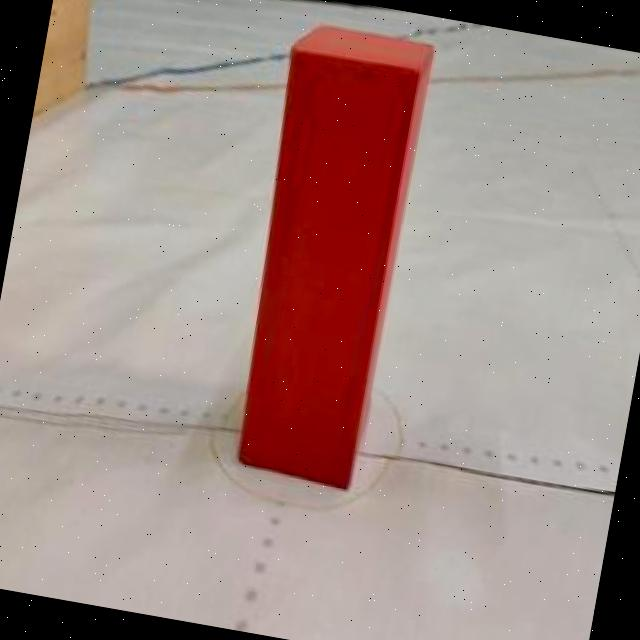redbox: (218, 18, 435, 484)
